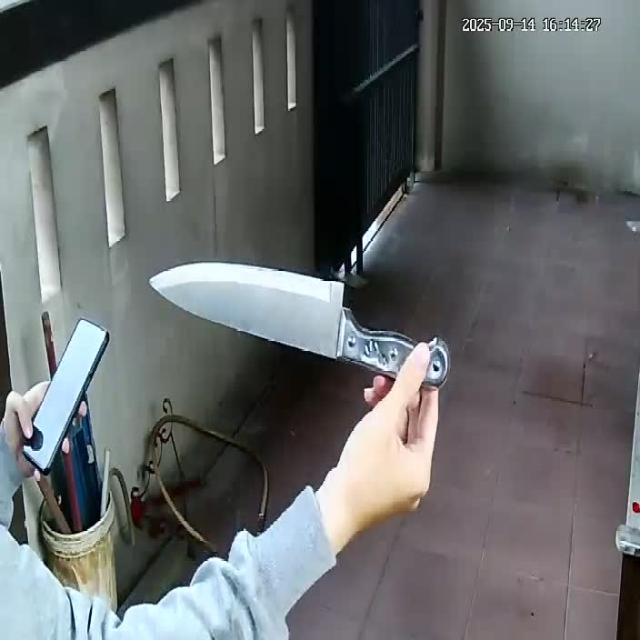senjata_tajam: (148, 259, 399, 377)
